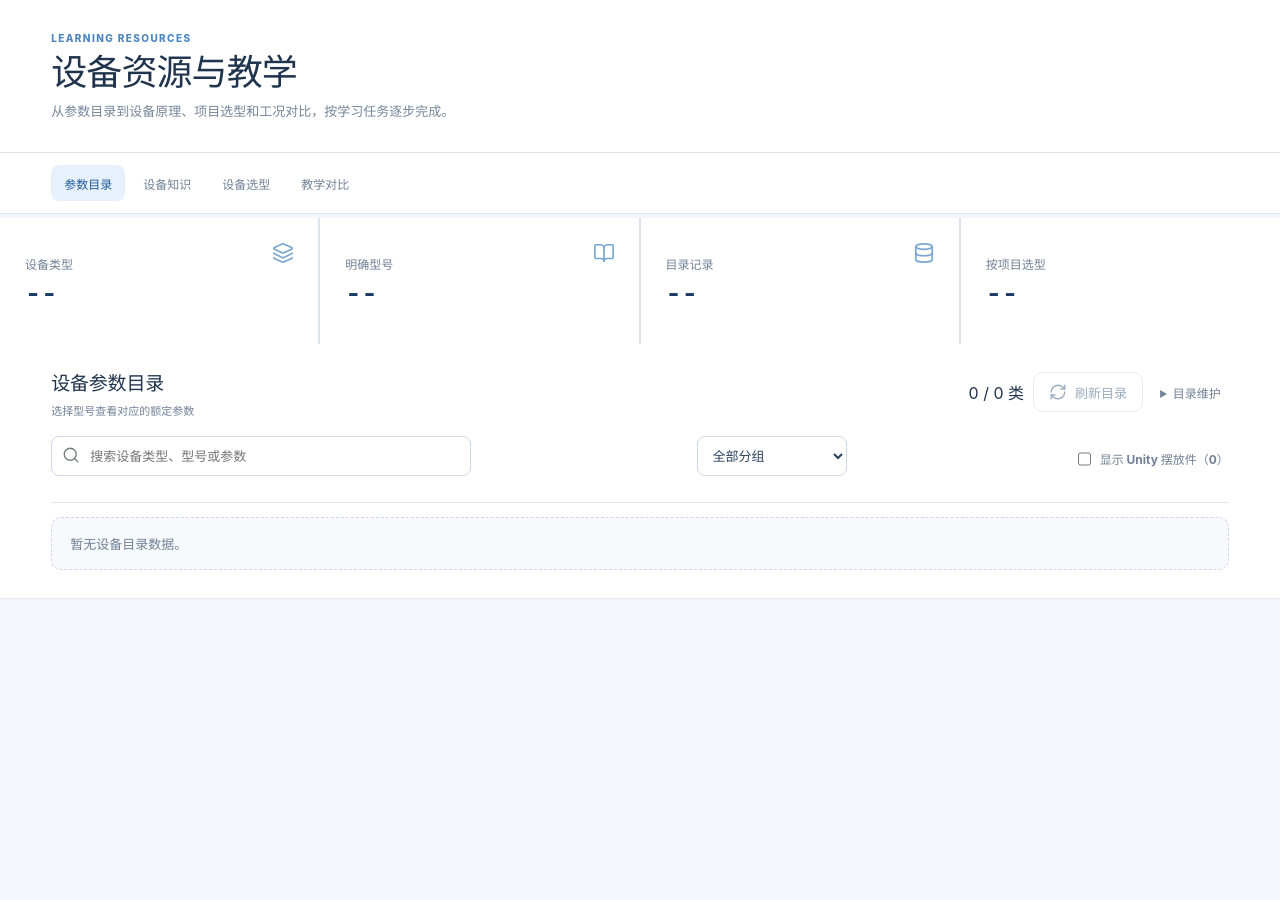
Scenario: resources learning views › loads knowledge cards and opens a real detail response
Click the tab "设备知识". click: (167, 183)
box: [130,165,204,201]
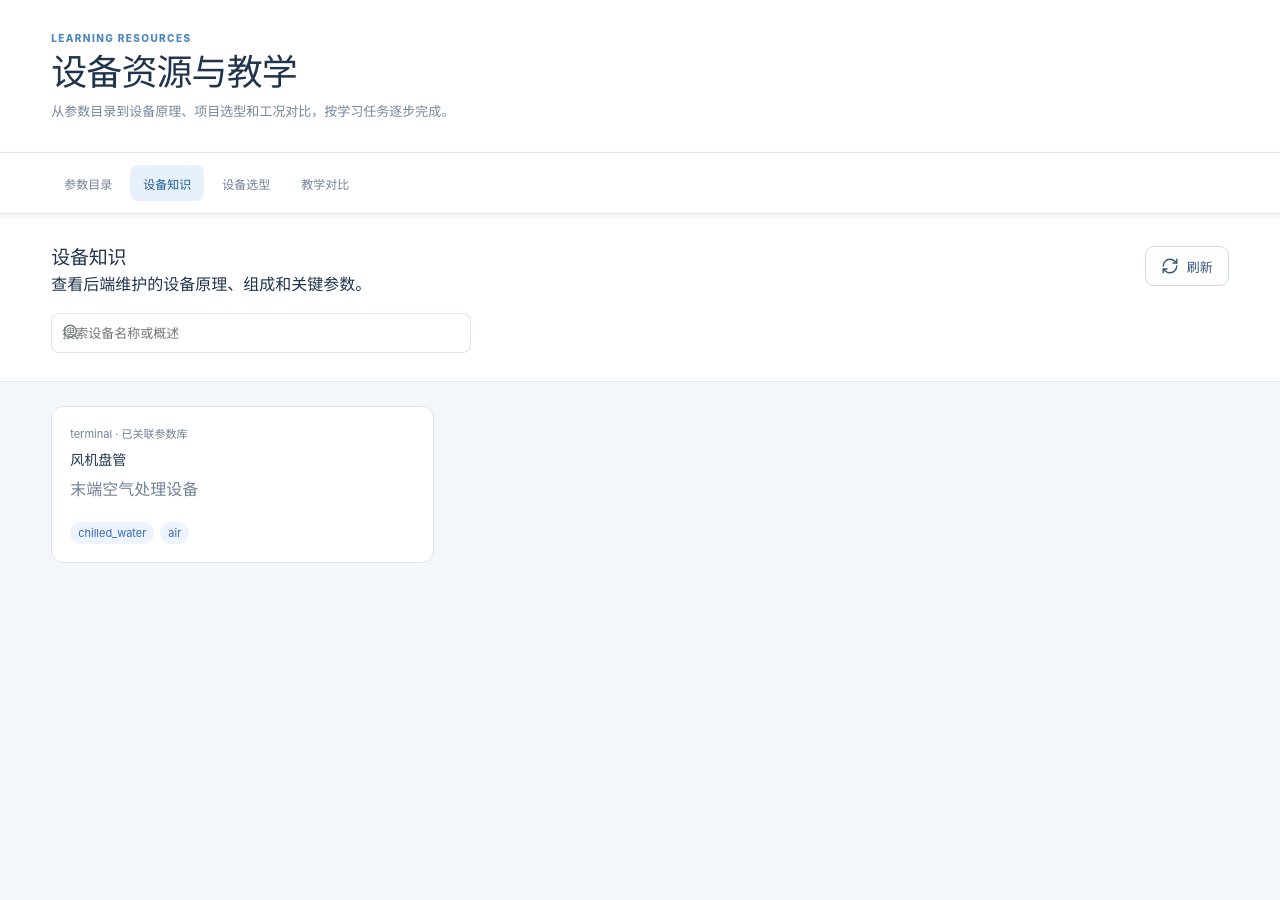
Check: the text "风机盘管" is shown, box [70,451,126,468]
Click the button with class "resource-card". click: (129, 434)
box: [51,406,434,563]
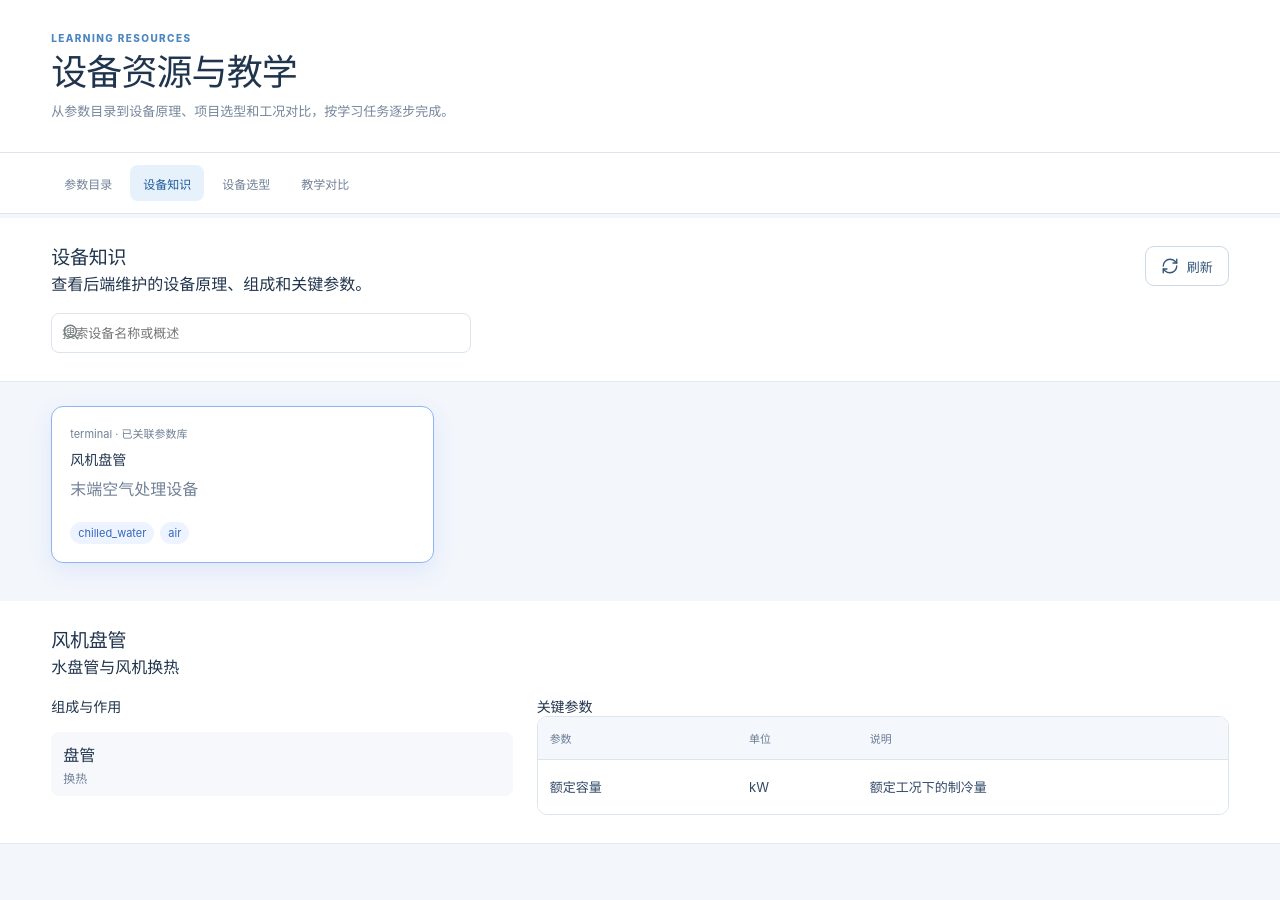
Check: the text "水盘管与风机换热" is shown, box [51,654,179,678]
Check: the text "额定容量" is shown, box [538,760,737,814]
